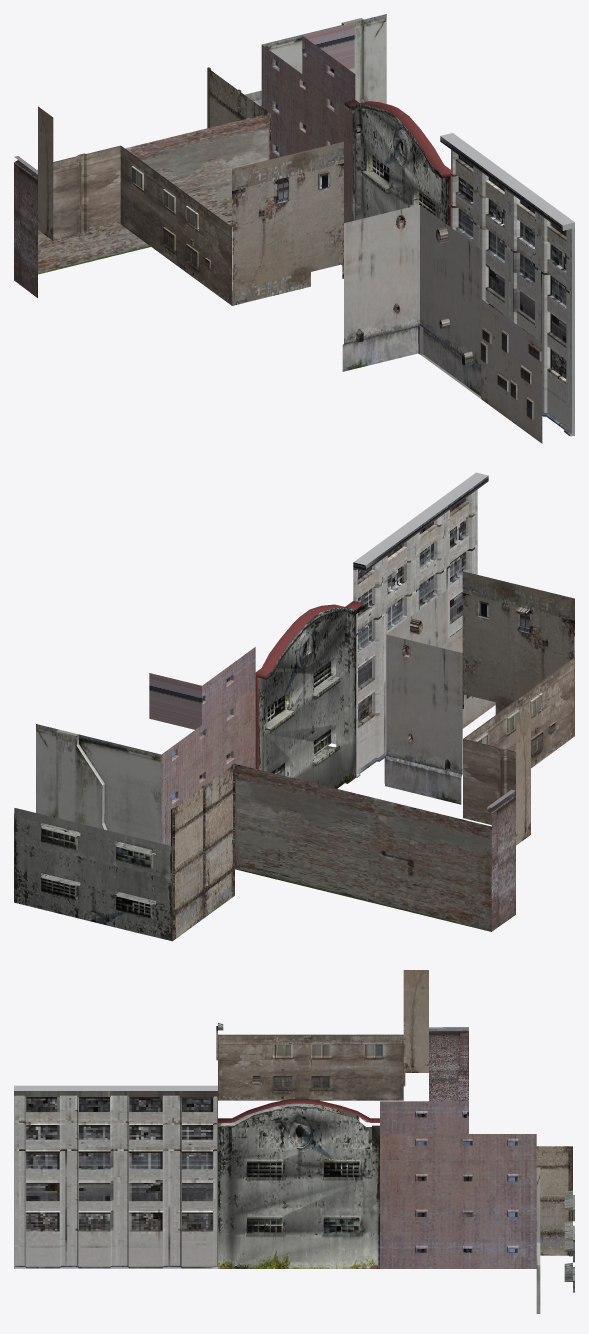
Rendered from EDIFICIOS CONTACTO.fbx.
3 views of the same model, one above another, from view 1: azimuth 30°, elevation 25°; view 2: azimuth 150°, elevation 25°; view 3: azimuth 270°, elevation 25° (orthographic). The views are drawn at different scales.
Visible parts, largest first — view 1: EDIFICIOS.001, EDIFICIOS.002, EDIFICIOS.020, EDIFICIOS.012, EDIFICIOS.014, EDIFICIOS.019, EDIFICIOS.003, EDIFICIOS.008, EDIFICIOS.018, EDIFICIOS.004, EDIFICIOS.011, EDIFICIOS.007 (+3 smaller); view 2: EDIFICIOS.001, EDIFICIOS.014, EDIFICIOS.010, EDIFICIOS.008, EDIFICIOS.007, EDIFICIOS.002, EDIFICIOS.020, EDIFICIOS.011, EDIFICIOS.012, EDIFICIOS.009, EDIFICIOS.003, EDIFICIOS.004 (+4 smaller); view 3: EDIFICIOS.001, EDIFICIOS.014, EDIFICIOS.012, EDIFICIOS.003, EDIFICIOS.009, EDIFICIOS.006, EDIFICIOS.005, EDIFICIOS.010, EDIFICIOS.011.
Part boxes in pixels (x1=…): EDIFICIOS.001: x1=440, y1=133, x2=574, y2=436; EDIFICIOS.002: x1=232, y1=141, x2=343, y2=305; EDIFICIOS.020: x1=342, y1=205, x2=419, y2=371; EDIFICIOS.012: x1=261, y1=22, x2=355, y2=265; EDIFICIOS.014: x1=344, y1=100, x2=450, y2=226; EDIFICIOS.019: x1=420, y1=205, x2=481, y2=398; EDIFICIOS.003: x1=120, y1=146, x2=231, y2=305; EDIFICIOS.008: x1=138, y1=113, x2=269, y2=249; EDIFICIOS.018: x1=480, y1=299, x2=542, y2=443; EDIFICIOS.004: x1=53, y1=145, x2=120, y2=240; EDIFICIOS.011: x1=262, y1=14, x2=386, y2=110; EDIFICIOS.007: x1=37, y1=145, x2=138, y2=274; EDIFICIOS.001: x1=353, y1=472, x2=488, y2=777; EDIFICIOS.014: x1=255, y1=601, x2=364, y2=788; EDIFICIOS.010: x1=14, y1=808, x2=172, y2=940; EDIFICIOS.008: x1=235, y1=764, x2=366, y2=901; EDIFICIOS.007: x1=366, y1=796, x2=491, y2=931; EDIFICIOS.002: x1=462, y1=571, x2=574, y2=714; EDIFICIOS.020: x1=385, y1=634, x2=462, y2=804; EDIFICIOS.011: x1=36, y1=724, x2=161, y2=843; EDIFICIOS.012: x1=149, y1=647, x2=255, y2=845; EDIFICIOS.009: x1=171, y1=764, x2=234, y2=941; EDIFICIOS.003: x1=463, y1=657, x2=574, y2=767; EDIFICIOS.004: x1=463, y1=739, x2=515, y2=824; EDIFICIOS.001: x1=14, y1=1085, x2=219, y2=1268; EDIFICIOS.014: x1=218, y1=1099, x2=379, y2=1268; EDIFICIOS.012: x1=380, y1=1101, x2=536, y2=1268; EDIFICIOS.003: x1=218, y1=1034, x2=403, y2=1100; EDIFICIOS.009: x1=536, y1=1146, x2=572, y2=1256; EDIFICIOS.006: x1=429, y1=1027, x2=468, y2=1101; EDIFICIOS.005: x1=403, y1=970, x2=428, y2=1072; EDIFICIOS.010: x1=564, y1=1190, x2=574, y2=1292; EDIFICIOS.011: x1=536, y1=1167, x2=540, y2=1313.
Bounding box in the file's own units: 6618 × 3542 × 9332.
12 materials, 12 textured.
